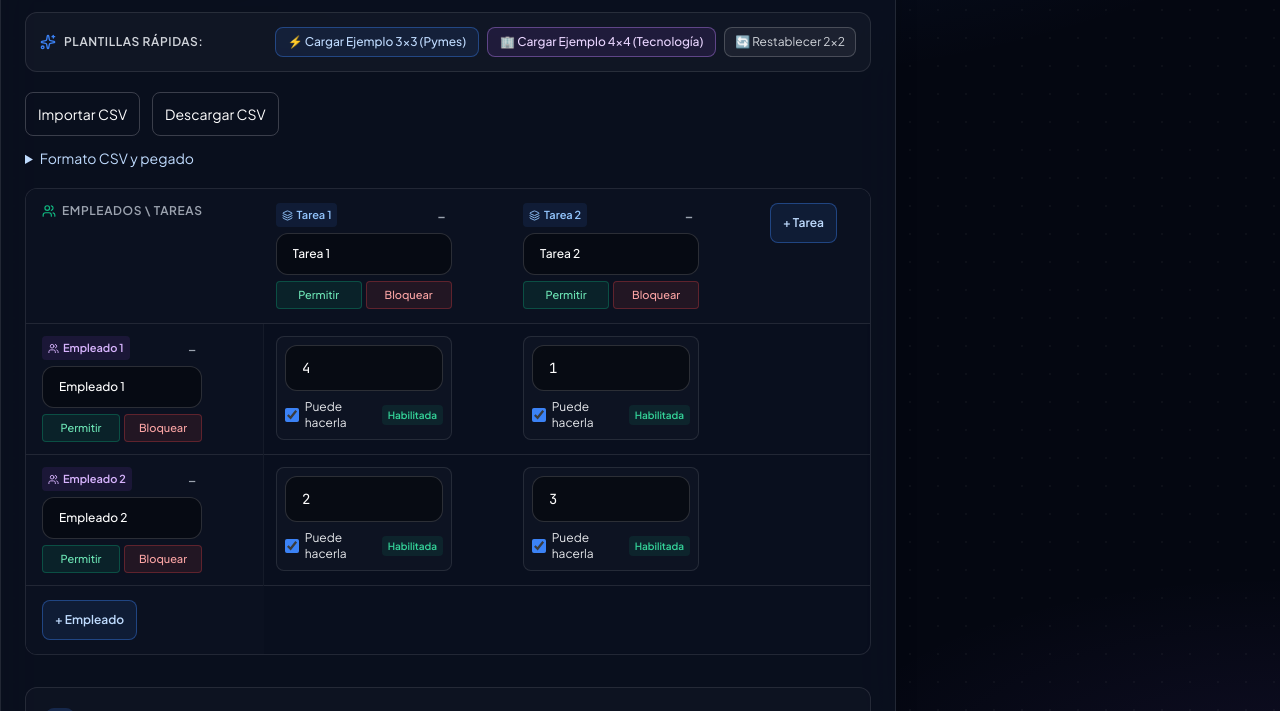
Optimización › valida una celda vacía sin enviar una tarea
(page scrolled)
Clear the number field named "Costo de Empleado 1 para Tarea 1": (364, 368) [285,345,443,391]
(page scrolled)
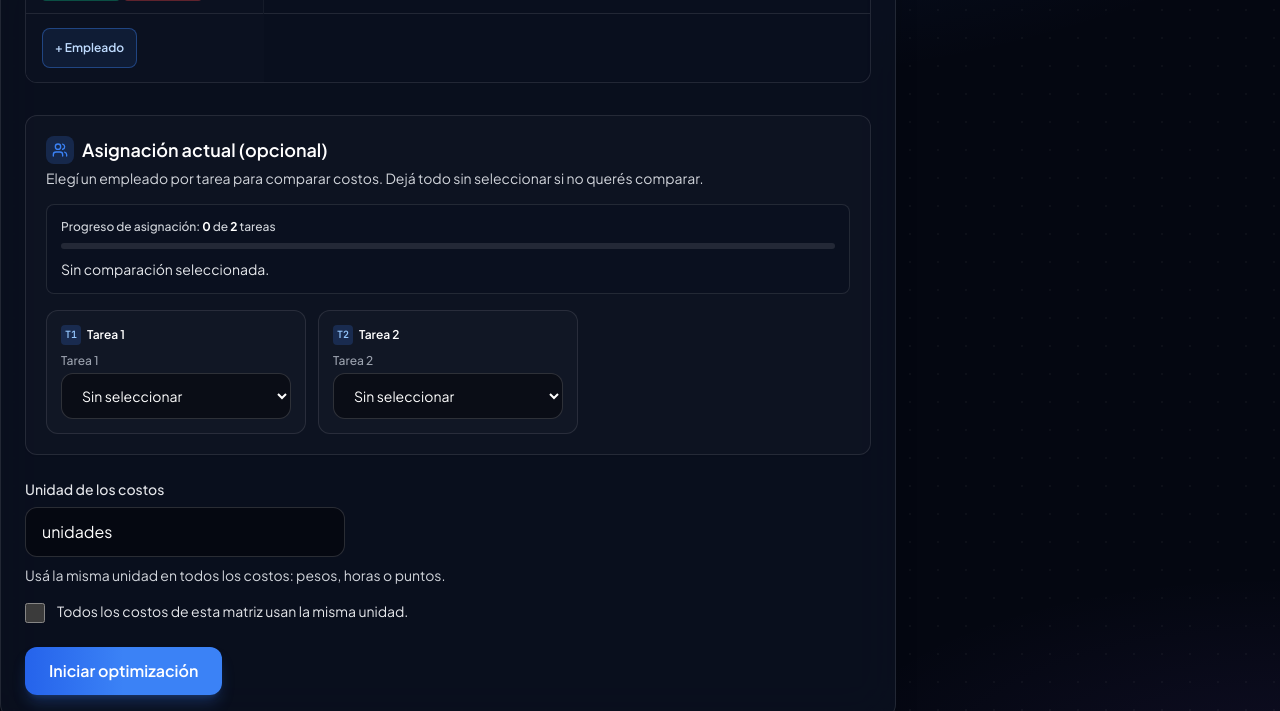
Click the button "Iniciar optimización": (124, 671) [25,647,222,695]
(page scrolled)
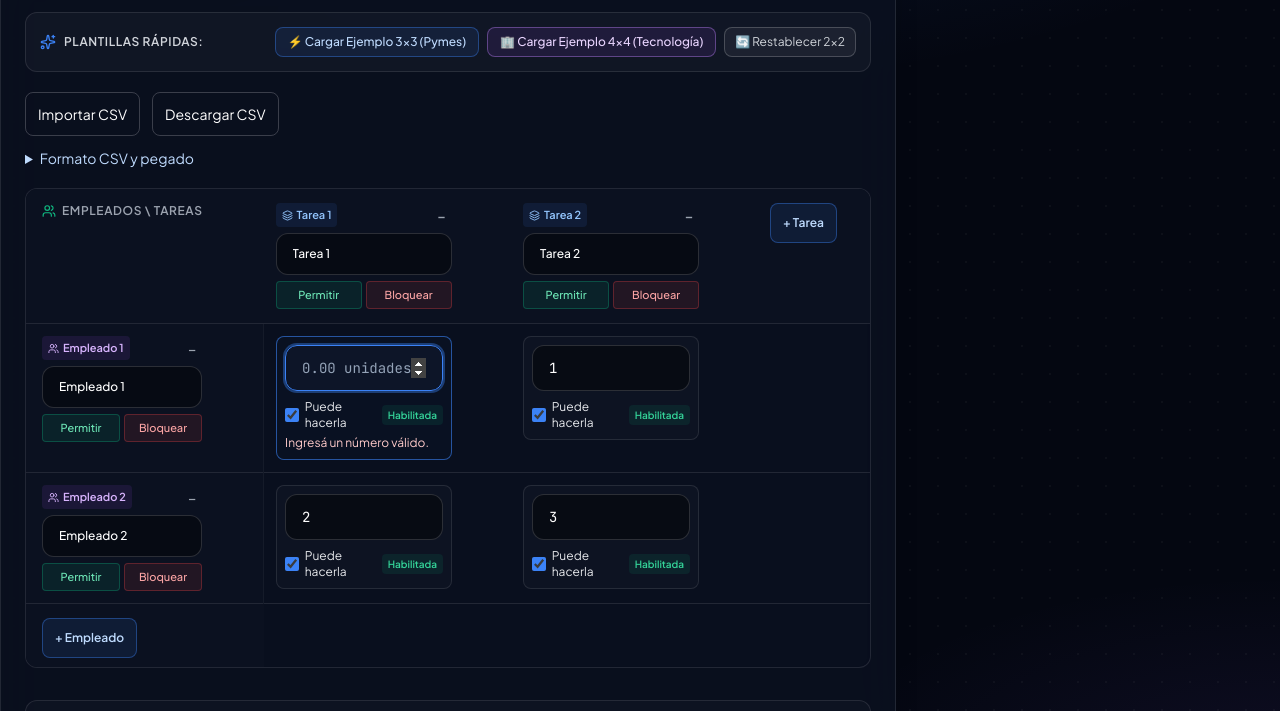
Now the text "Ingresá un número válido." is shown, box [285,435,443,451]
